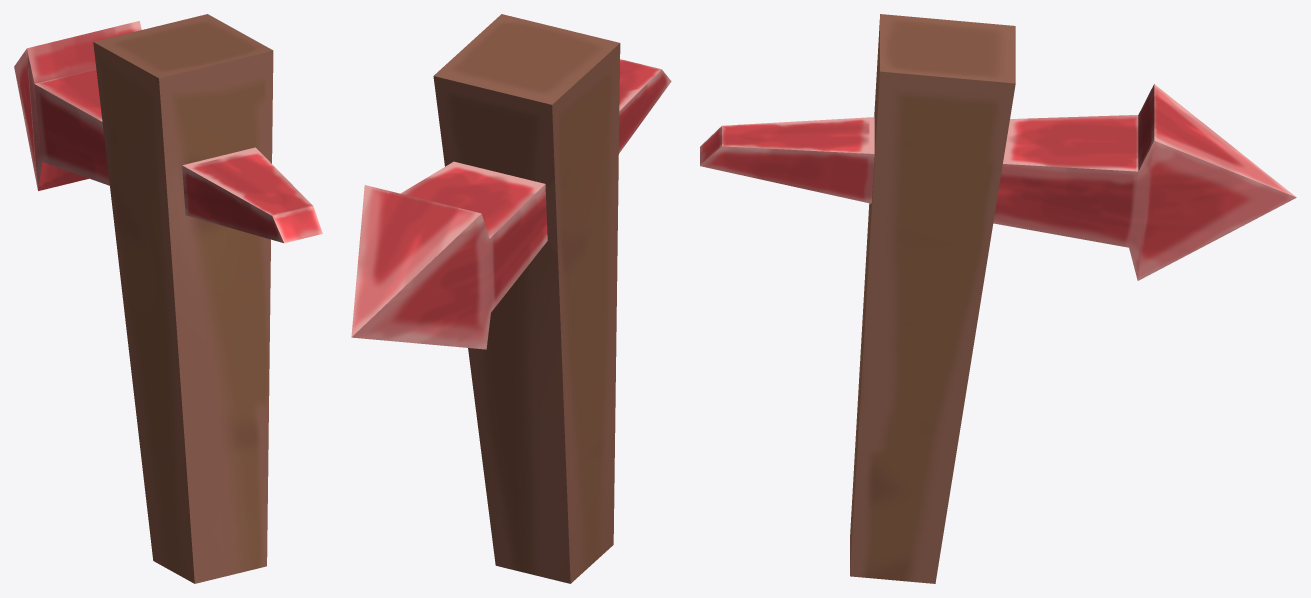
File: arrow_sign.fbx
3 renders of one model, left to right at view 1: azimuth 30°, elevation 25°; view 2: azimuth 150°, elevation 25°; view 3: azimuth 270°, elevation 25°, orthographic. The views are drawn at different scales.
Visible parts, largest first — view 1: Cube; view 2: Cube; view 3: Cube.
Boxes of the visible parts, bbox=[...] form: Cube: bbox=[14, 14, 322, 583]; Cube: bbox=[351, 14, 671, 583]; Cube: bbox=[700, 14, 1296, 583].
Size of the model in its own units: 47.89 by 203 by 210.
1 material, 1 textured.
